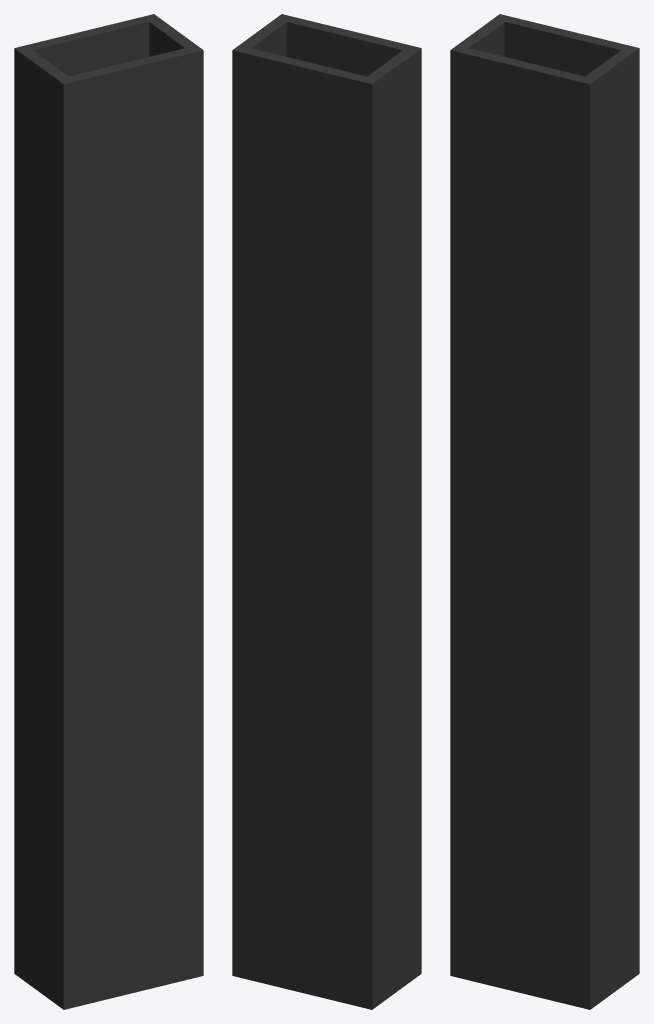
Rendered from SMG1_04_2.fbx.
The picture shows the model from 3 angles, left to right: view 1: azimuth 30°, elevation 25°; view 2: azimuth 150°, elevation 25°; view 3: azimuth 330°, elevation 25°; orthographic projection.
Parts seen in each view (by area): view 1: SMG1_04_2; view 2: SMG1_04_2; view 3: SMG1_04_2.
Boxes of the visible parts, x1,y1,x2,y2 form: SMG1_04_2: (14, 14, 203, 1009); SMG1_04_2: (232, 14, 421, 1009); SMG1_04_2: (450, 14, 639, 1009).
Bounding box in the file's own units: 0.0354 × 0.2241 × 0.0217.
